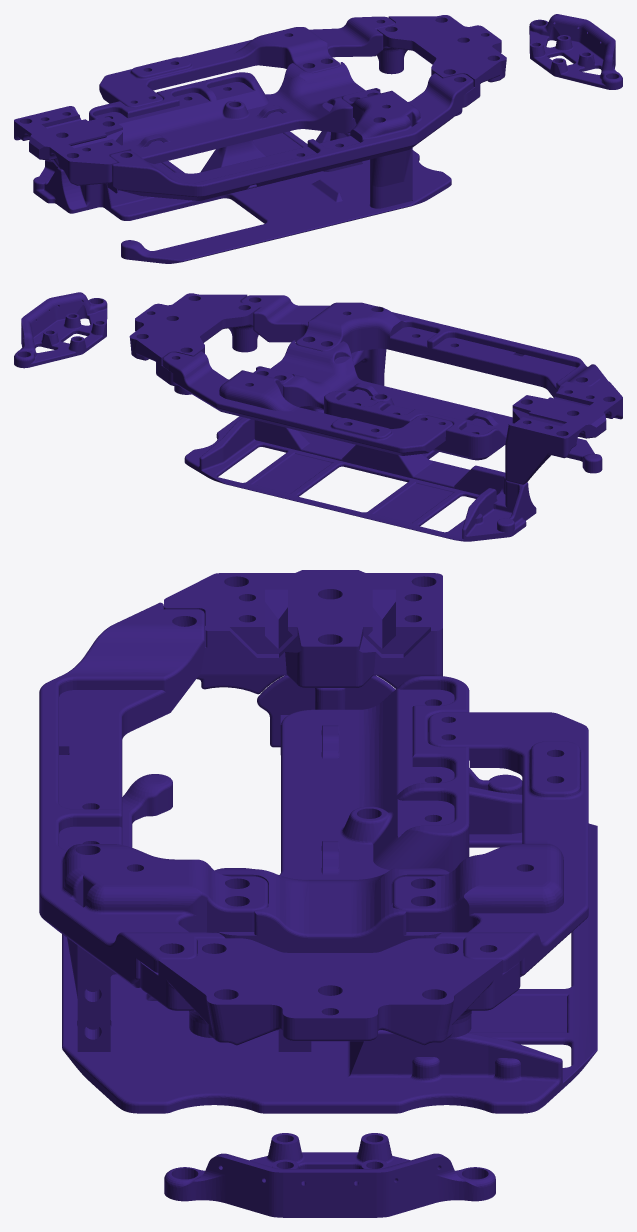
The model's file is vehicle_mount_1.dae.
3 views of the same model, one above another, from view 1: azimuth 30°, elevation 25°; view 2: azimuth 150°, elevation 25°; view 3: azimuth 270°, elevation 25° (orthographic). The views are drawn at different scales.
Parts seen in each view (by area): view 1: part_0_node; view 2: part_0_node; view 3: part_0_node.
Boxes of the visible parts, x1,y1,x2,y2 form: part_0_node: (14,14,622,263); part_0_node: (14,292,622,541); part_0_node: (39,570,597,1217).
Bounding box in the file's own units: 316 × 135 × 50.1.
